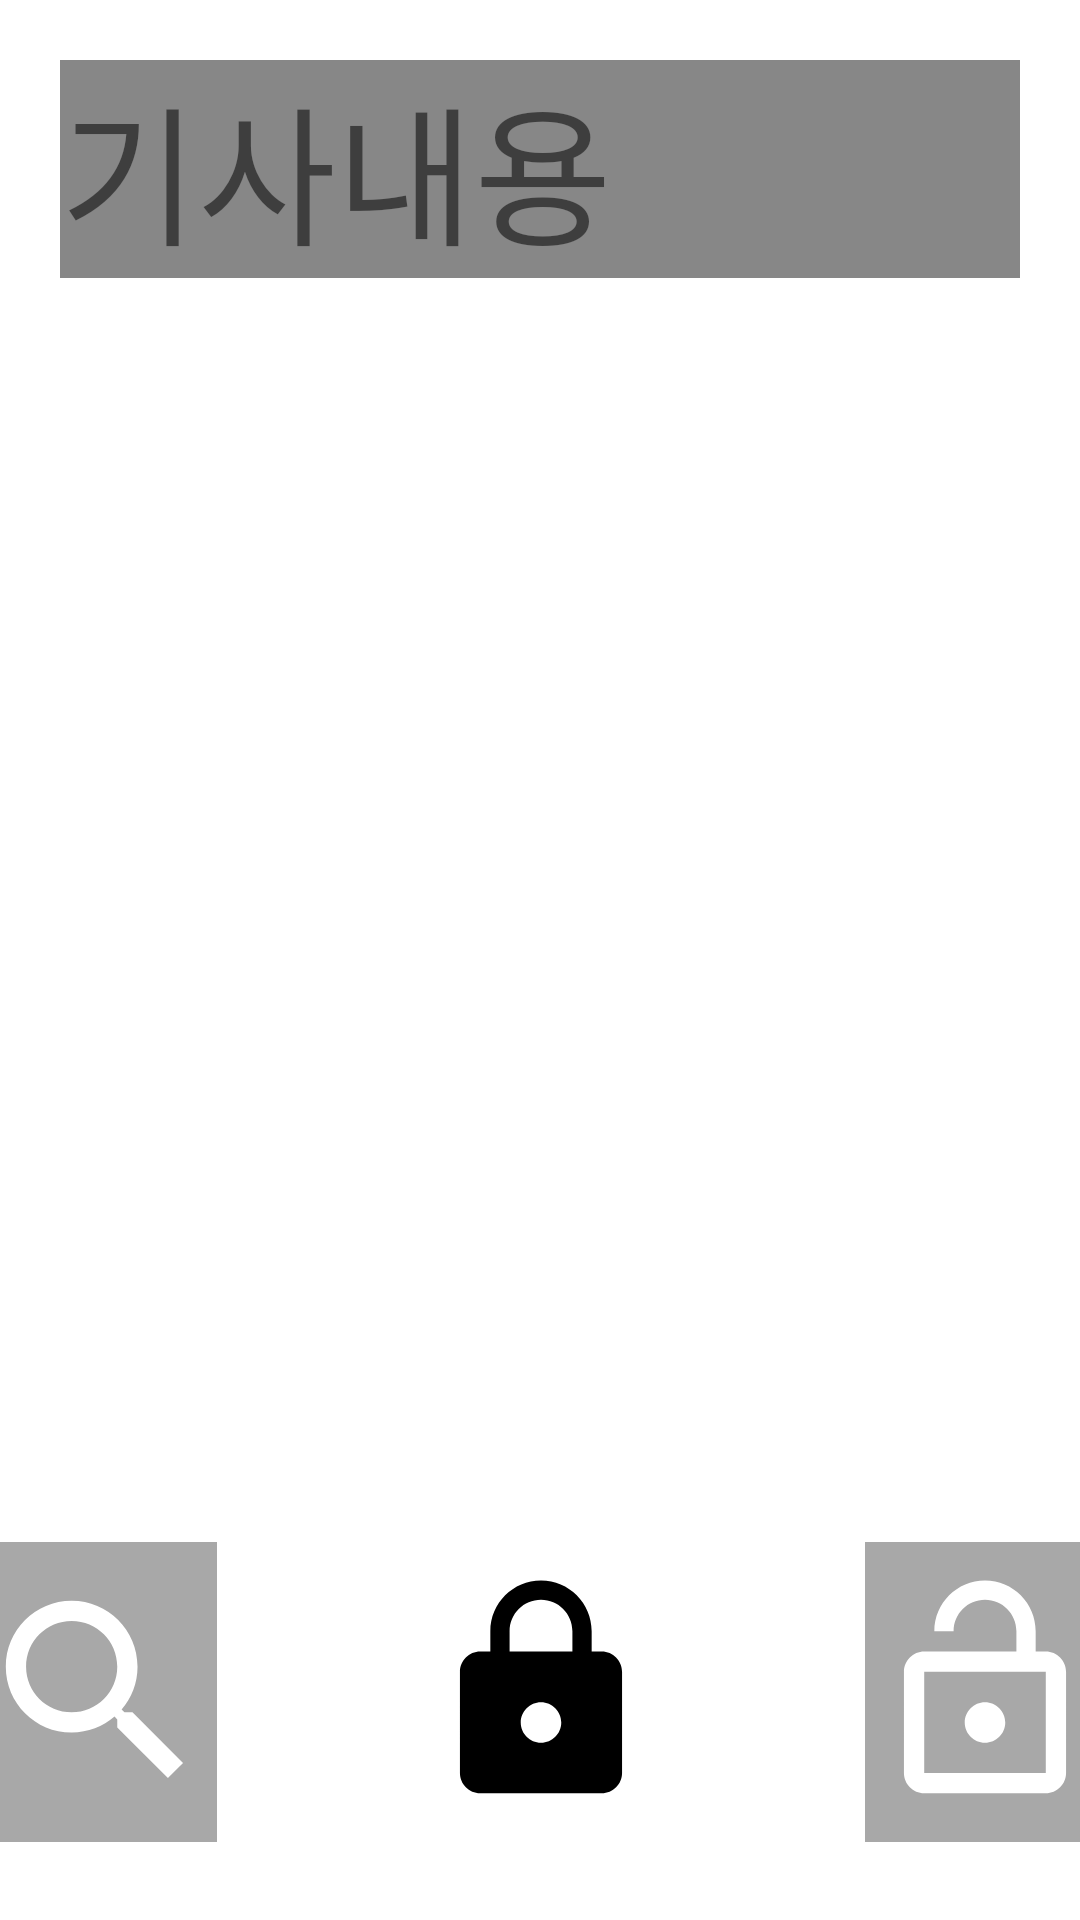

Point at icon controls on the screen. Image size 1080×1920, points as (x=x, y=y).
lock idle: (x=541, y=1687)
lock idle search: (x=108, y=1692)
